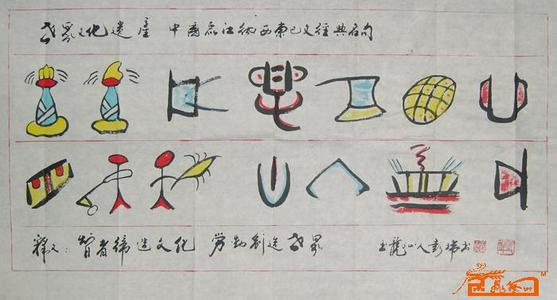chinese: (24, 226, 475, 265), (33, 17, 375, 46)
naxi: (20, 57, 529, 137), (19, 151, 534, 214)
